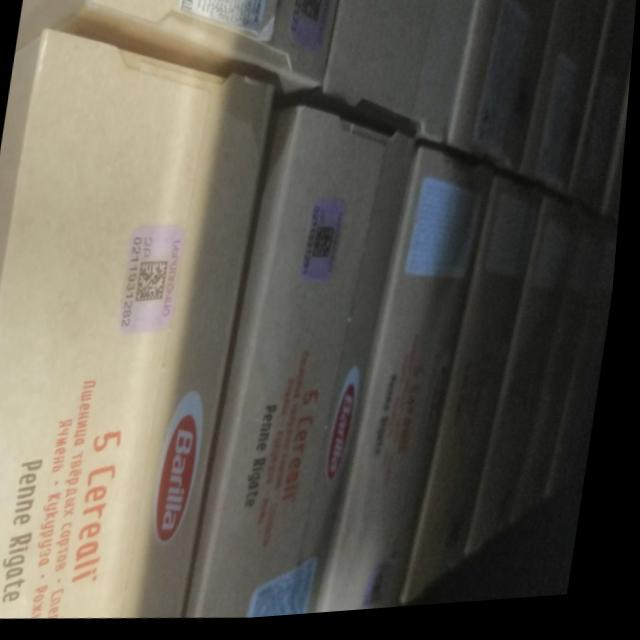datamatrix: (139, 261, 175, 309), (316, 229, 340, 268), (297, 1, 326, 31)
